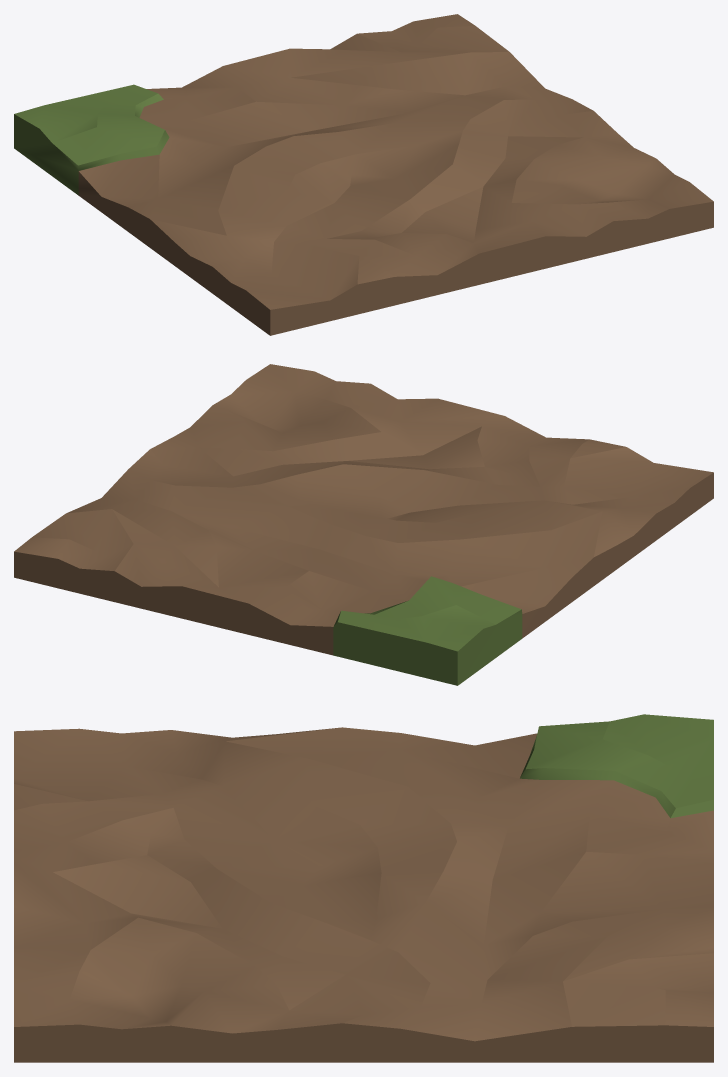
The model's file is Ground_Corner_External_LU.glb.
The picture shows the model from 3 angles, top to bottom: view 1: azimuth 30°, elevation 25°; view 2: azimuth 150°, elevation 25°; view 3: azimuth 270°, elevation 25°; orthographic projection. The views are drawn at different scales.
Visible parts, largest first — view 1: Ground_Corner_External_LU; view 2: Ground_Corner_External_LU; view 3: Ground_Corner_External_LU.
Boxes of the visible parts, x1,y1,x2,y2 form: Ground_Corner_External_LU: (14, 14, 713, 335); Ground_Corner_External_LU: (14, 364, 713, 685); Ground_Corner_External_LU: (14, 714, 713, 1062).
Bounding box in the file's own units: 1.47 × 0.1341 × 1.47.
